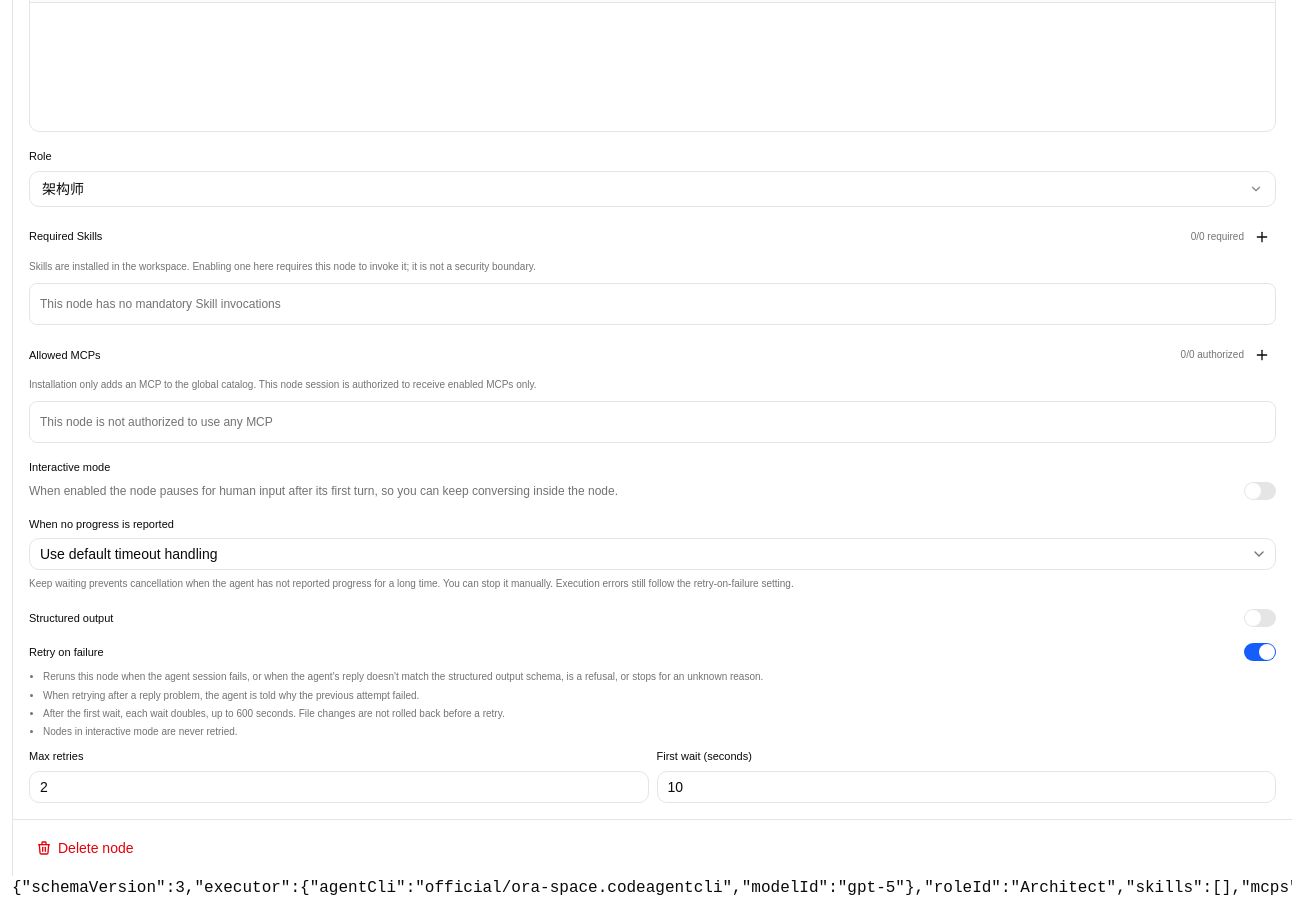
Agent retry settings › keeps Max retries = 1.5 out of the graph and explains why
(page scrolled)
Replace the text in the number field labelled "Max retries" with "1.5" at (339, 787), box x1=29 y1=771 x2=648 y2=803
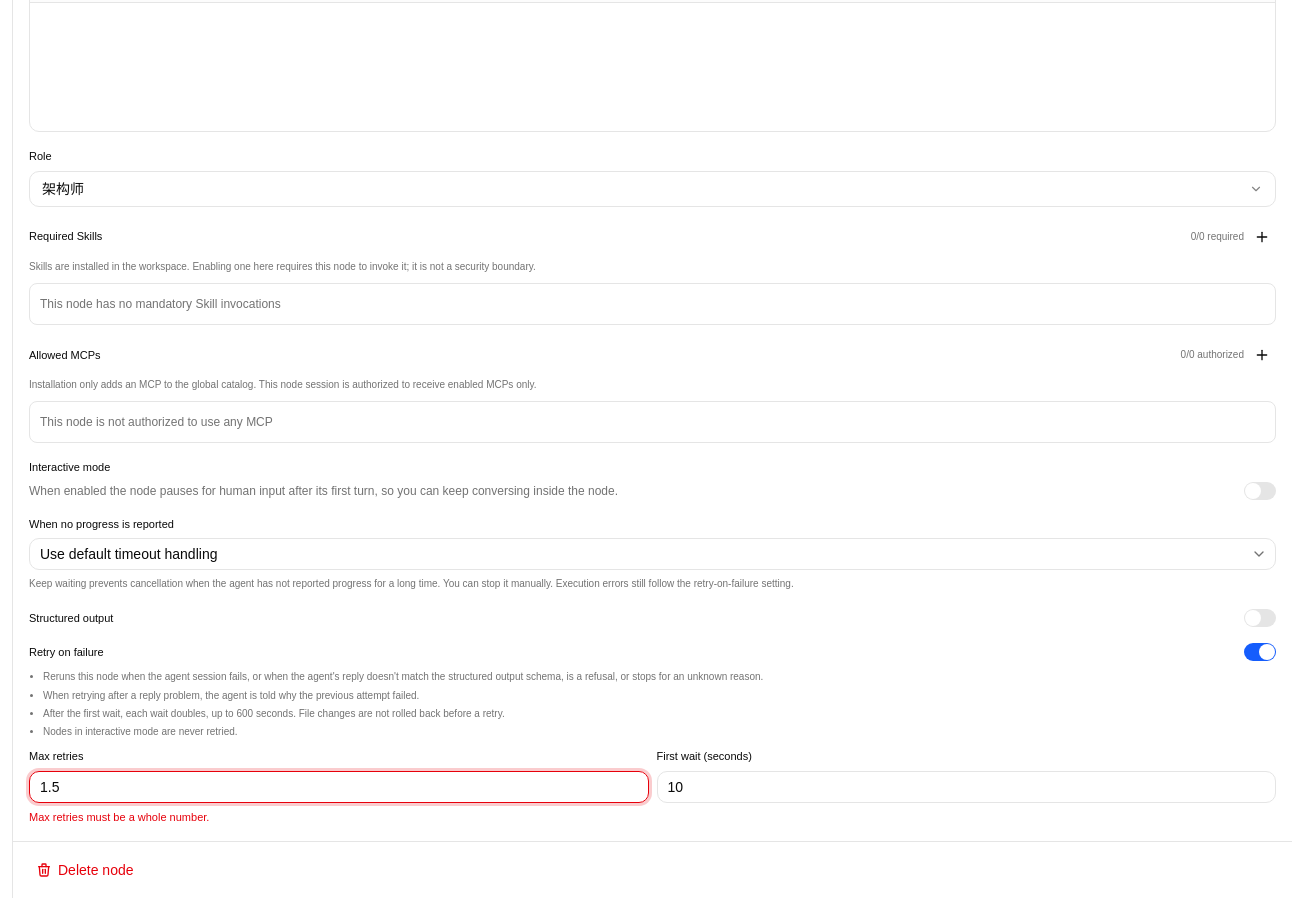
Result: the message reads "Max retries must be a whole number." at x1=29 y1=811 x2=209 y2=823
